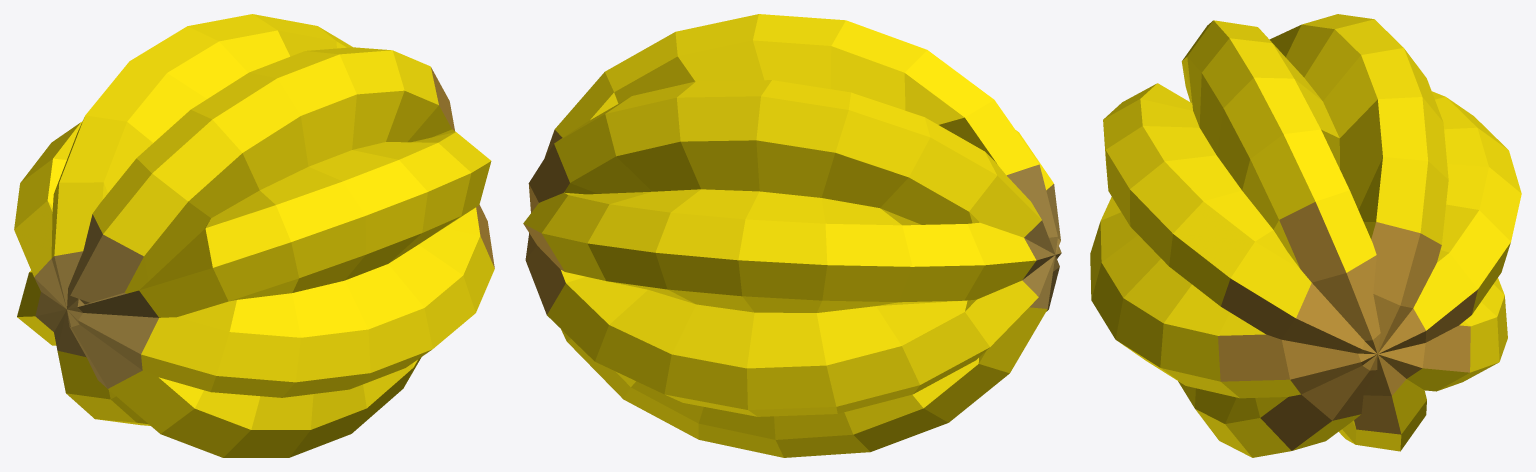
The model's file is fruit-type-001.obj.
3 renders of one model, left to right at view 1: azimuth 30°, elevation 25°; view 2: azimuth 150°, elevation 25°; view 3: azimuth 270°, elevation 25°, orthographic.
Parts seen in each view (by area): view 1: fruit-type-001; view 2: fruit-type-001; view 3: fruit-type-001.
Part boxes in pixels (box(x1,y1,x2,y2)): fruit-type-001: box(14, 14, 494, 457); fruit-type-001: box(523, 14, 1061, 457); fruit-type-001: box(1090, 14, 1521, 457).
Bounding box in the file's own units: 0.4231 × 0.3349 × 0.3431.
